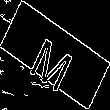M_NE: (29, 21, 81, 89)
